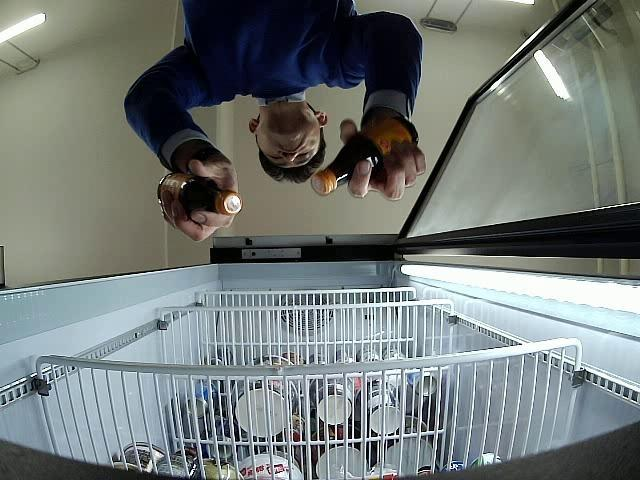17_vita500: (312, 118, 419, 196), (158, 174, 242, 218)
